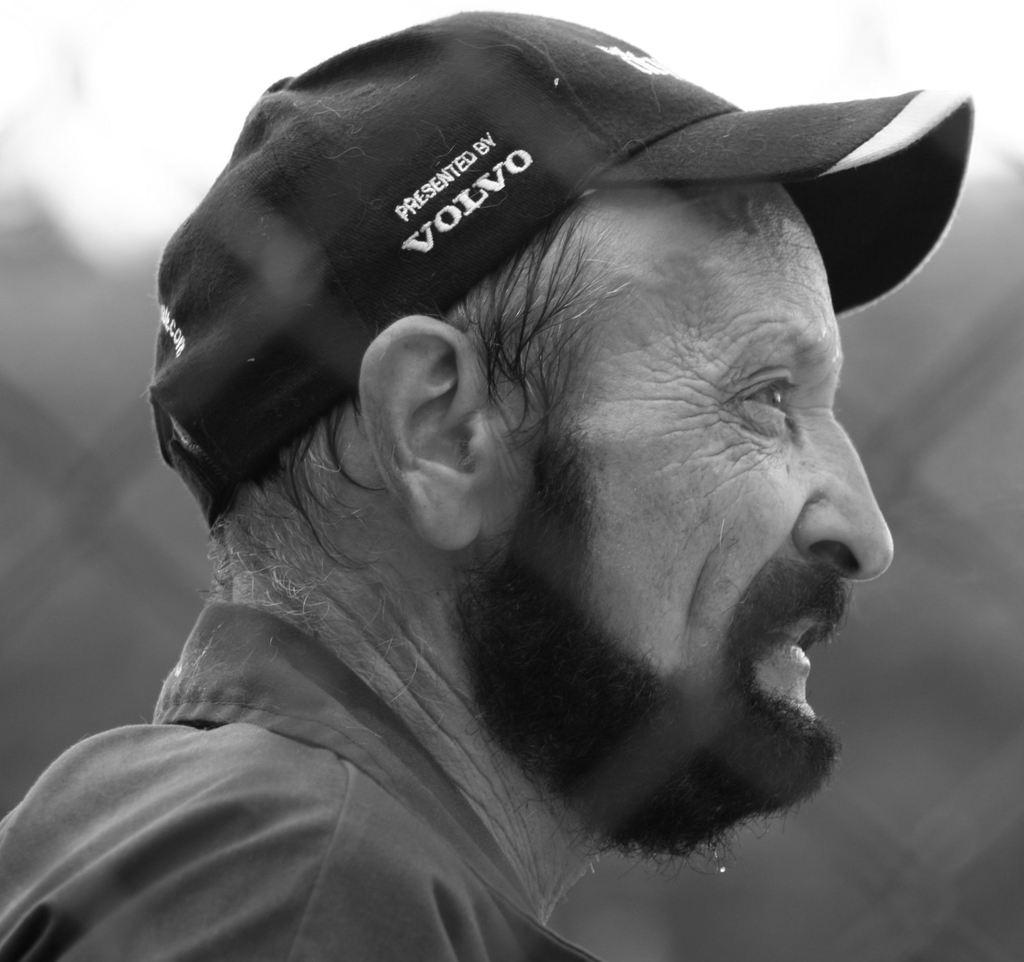Hat: (151, 7, 975, 532)
